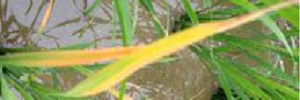RiceTungro: (151, 1, 297, 46), (1, 47, 149, 68)
